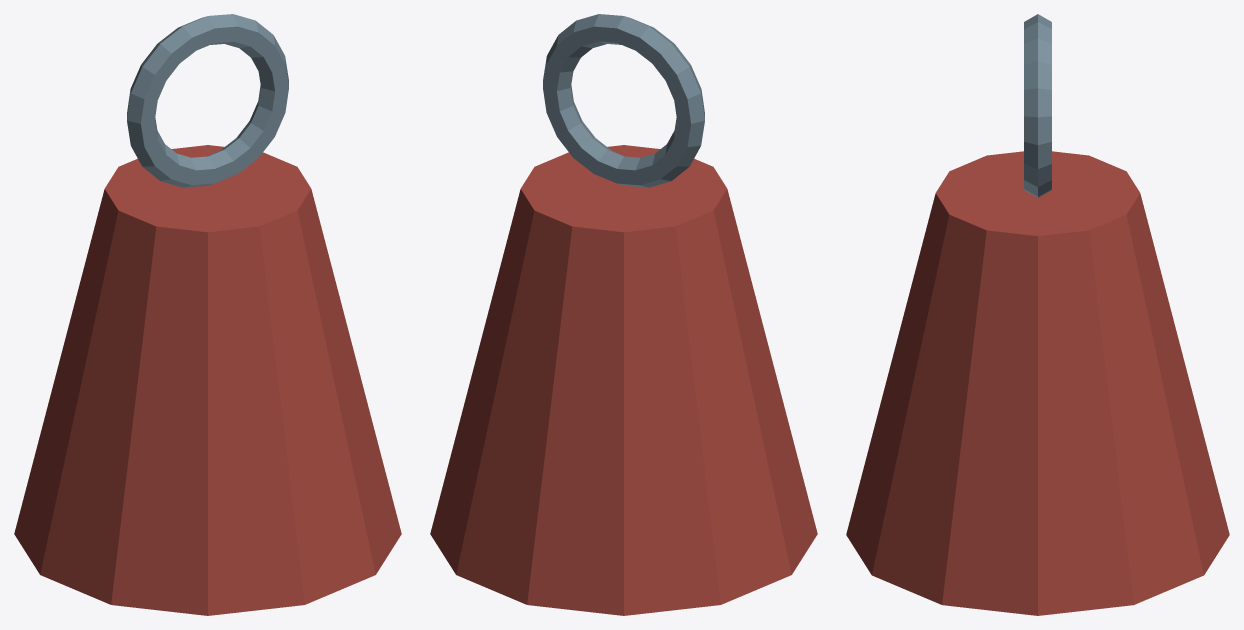
The model's file is equipment-buoy.lod0.glb.
3 renders of one model, left to right at view 1: azimuth 30°, elevation 25°; view 2: azimuth 150°, elevation 25°; view 3: azimuth 270°, elevation 25°, orthographic.
Visible parts, largest first — view 1: equipment-buoy__body; view 2: equipment-buoy__body; view 3: equipment-buoy__body.
Boxes of the visible parts, x1,y1,x2,y2 form: equipment-buoy__body: [14, 14, 401, 615]; equipment-buoy__body: [430, 14, 817, 615]; equipment-buoy__body: [846, 14, 1229, 615].
Size of the model in its own units: 0.6 by 0.885 by 0.6.
